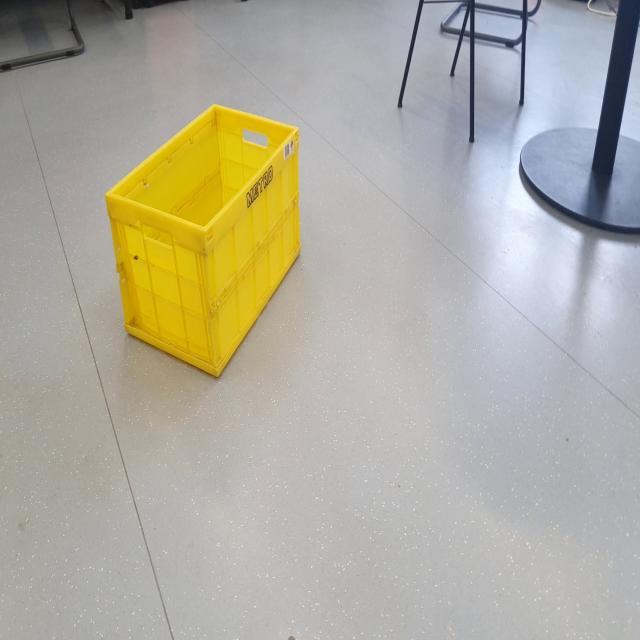box: (96, 85, 314, 399)
